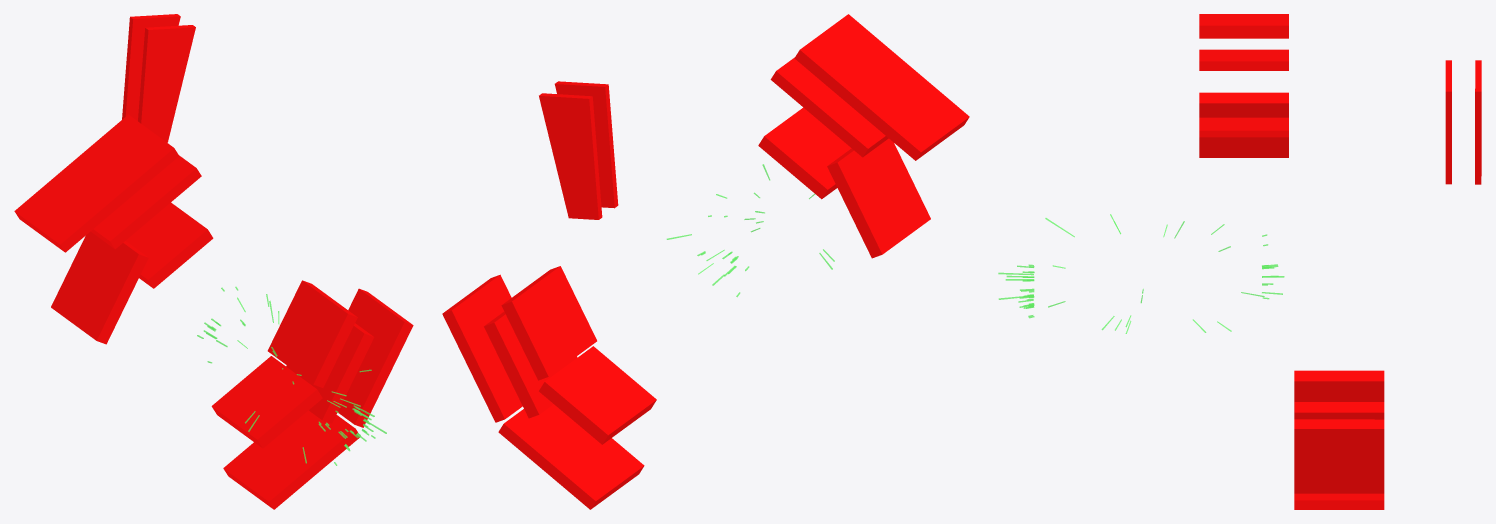
3 views of the same model, side by side, from view 1: azimuth 30°, elevation 25°; view 2: azimuth 150°, elevation 25°; view 3: azimuth 270°, elevation 25° (orthographic). The views are drawn at different scales.
Parts seen in each view (by area): view 1: MuonChambers_V1, EERecHits_V2; view 2: MuonChambers_V1; view 3: MuonChambers_V1, EERecHits_V2.
Part boxes in pixels (bbox=[...]): MuonChambers_V1: bbox=[14, 14, 413, 509]; EERecHits_V2: bbox=[197, 286, 386, 465]; MuonChambers_V1: bbox=[442, 14, 969, 509]; MuonChambers_V1: bbox=[1199, 14, 1481, 509]; EERecHits_V2: bbox=[998, 234, 1284, 318].
Size of what is drawn, in the model's own units: 12.71 by 13.15 by 13.51.
